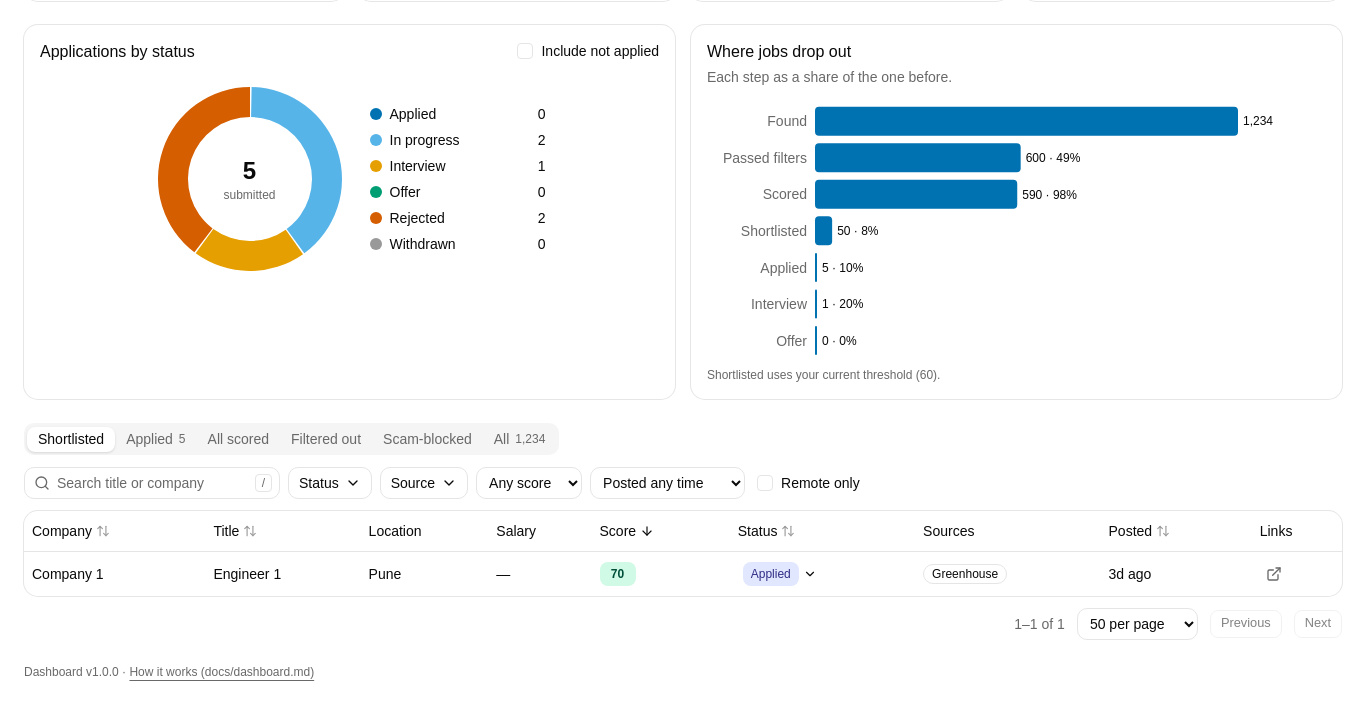
Test: Undo after a move › shows another refusal as it is, and keeps the job as it is
This screenshot has width=1366, height=704.
(page scrolled)
What coordinates should you click on to do the following:
click the button with aria-label "Status: Applied. Change status"
I would click on:
 (780, 574)
Its box is [738,560,822,588].
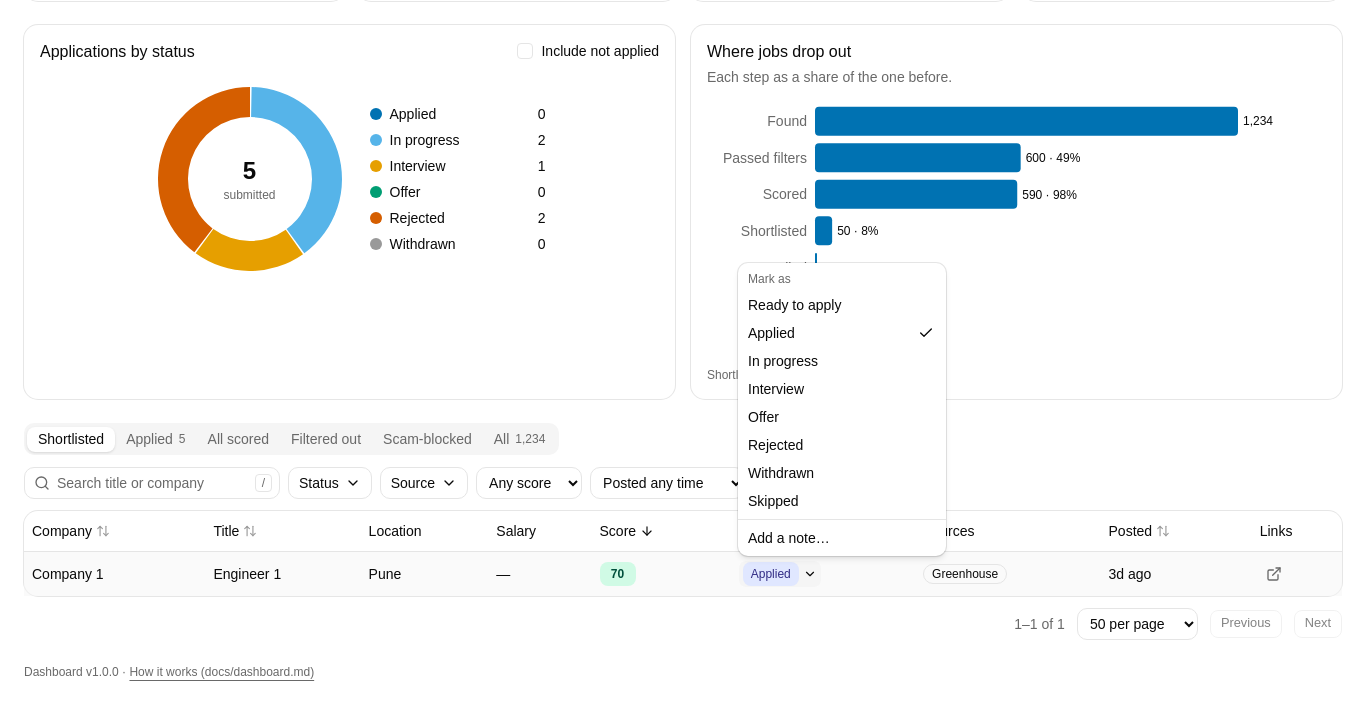
What coordinates should you click on to do the following:
click the menu item "Offer"
I would click on:
 (763, 417)
Its box is [748,409,779,425].
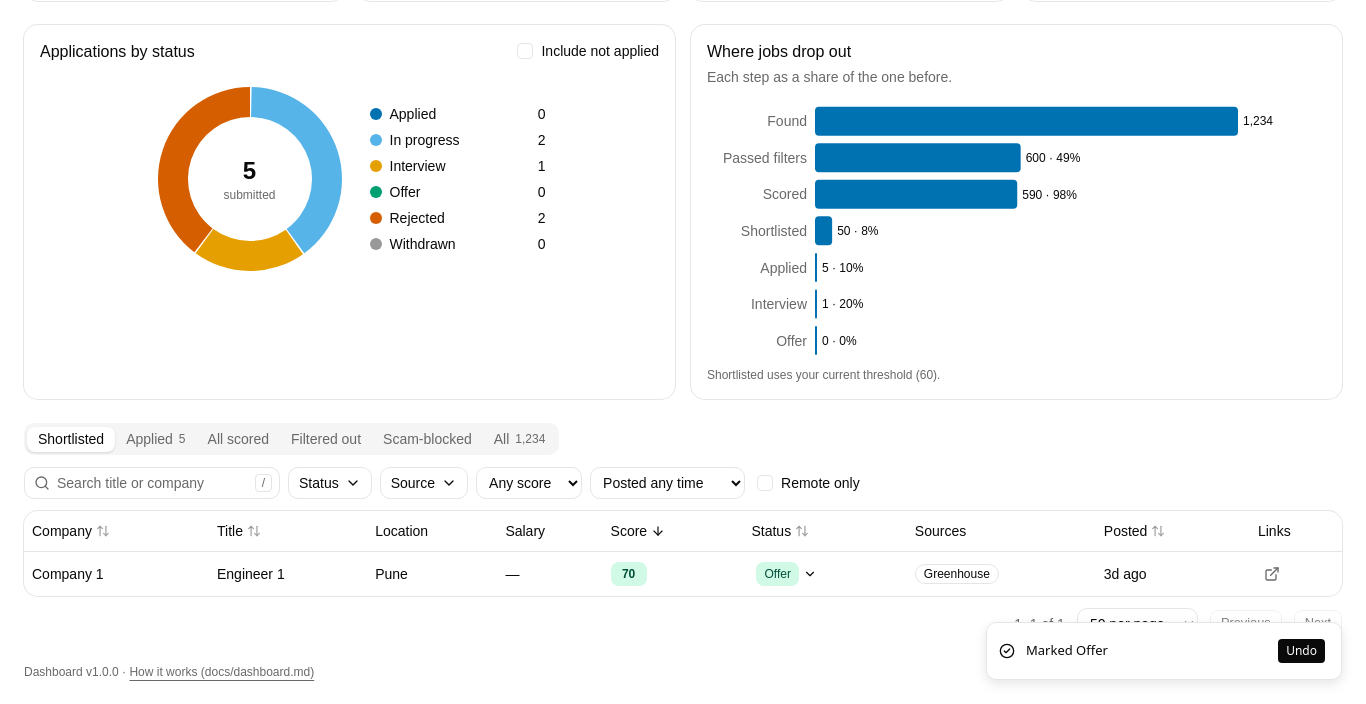
Expected: the text "Marked Offer" is shown, [1026,641,1108,661]
What coordinates should you click on to do the following:
click the button "Undo"
I would click on:
 (1302, 651)
Its box is [1278,639,1325,663].
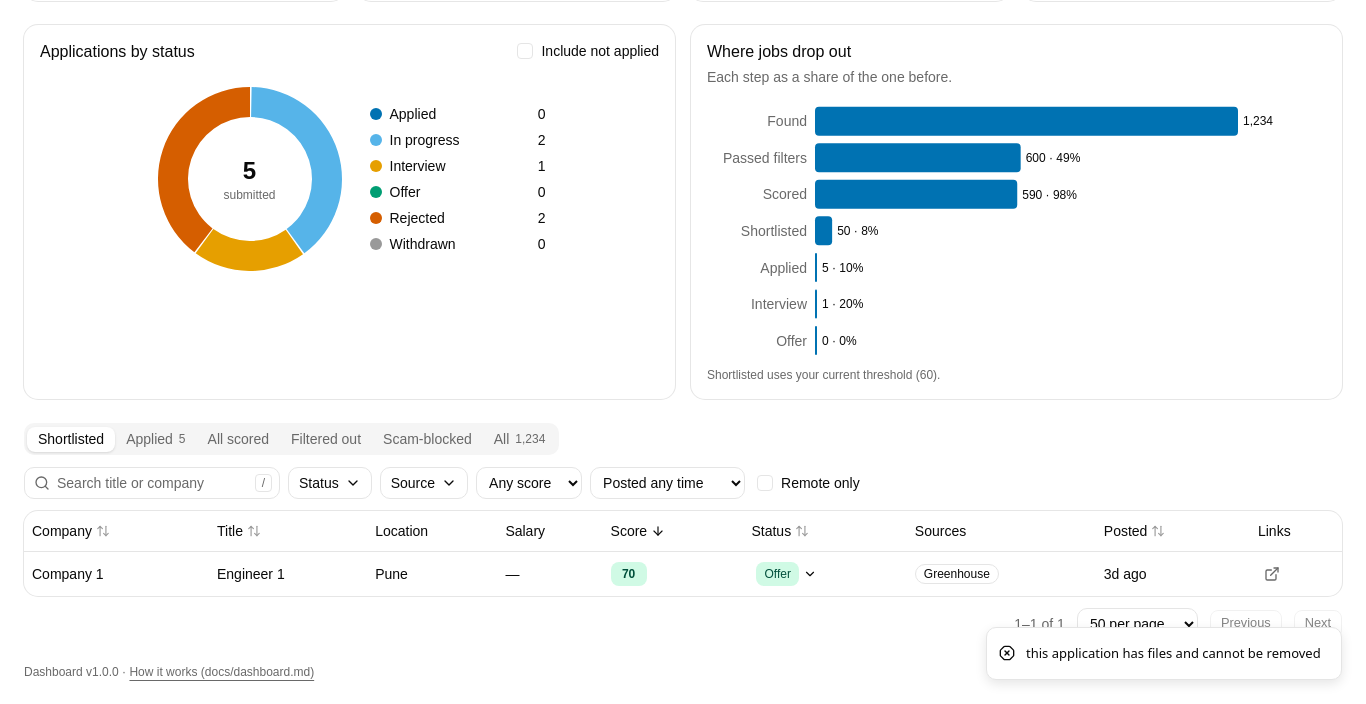
Expected: the text "this application has files and cannot be removed" is shown, [1026,644,1321,663]
